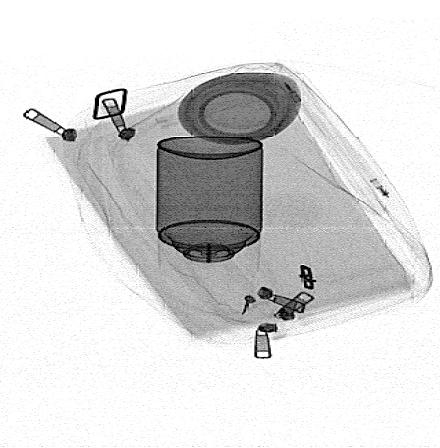Sprayer: (155, 136, 263, 289)
